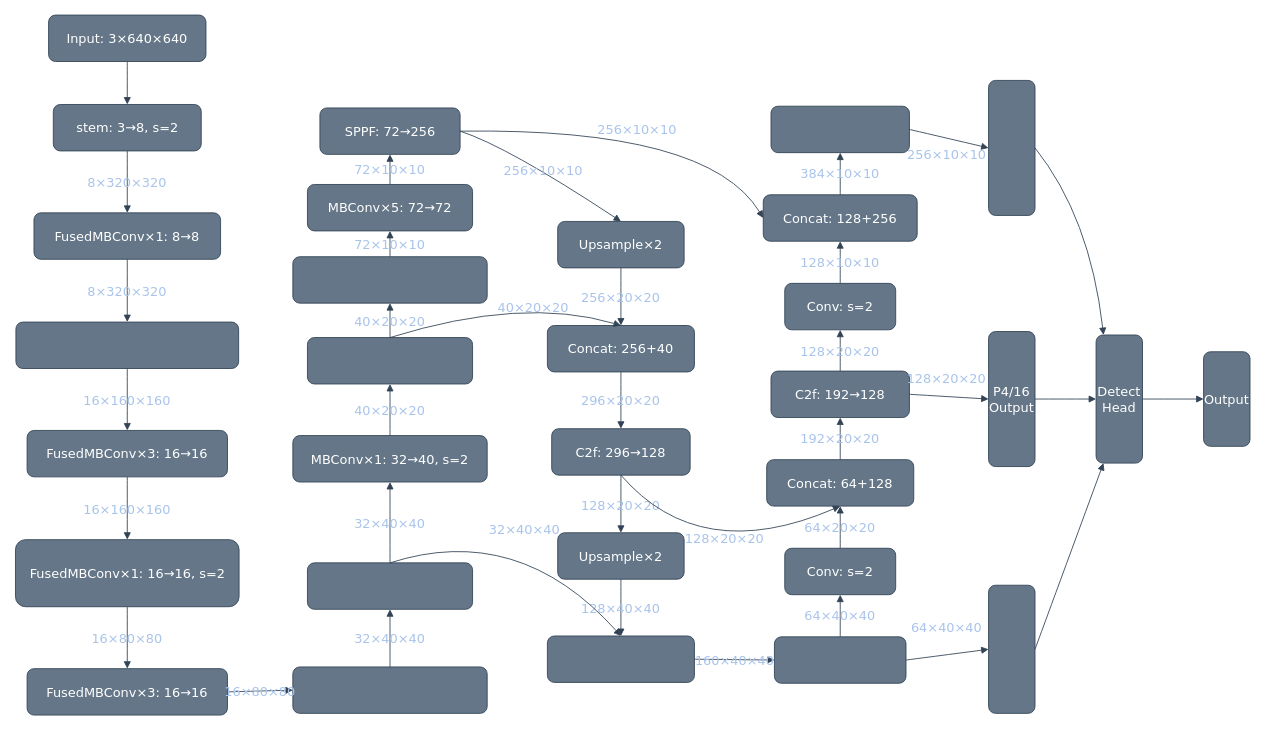
Image size: 1265x730. Some labels were removed from this diagram. Each missing label, with the box of its shape:
C2f: 160→64: (774, 636, 906, 683)
C2f: 384→256: (770, 105, 909, 153)
Concat: 128+32: (547, 635, 694, 682)
FusedMBConv×1: 8→16, s=2: (15, 321, 239, 369)
MBConv×1: 16→32, s=2: (292, 666, 487, 713)
MBConv×1: 40→72, s=2: (292, 256, 487, 303)
MBConv×2: 32→32: (307, 562, 473, 609)
MBConv×3: 40→40: (307, 337, 473, 384)
P3/8 Output: (988, 584, 1035, 713)
P5/32 Output: (988, 80, 1035, 215)
